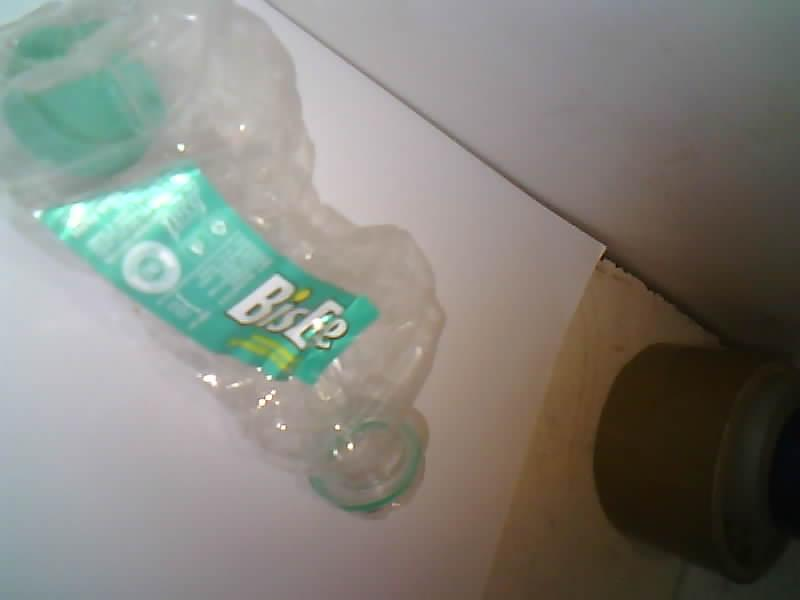non-biodegradable: (0, 0, 443, 512)
